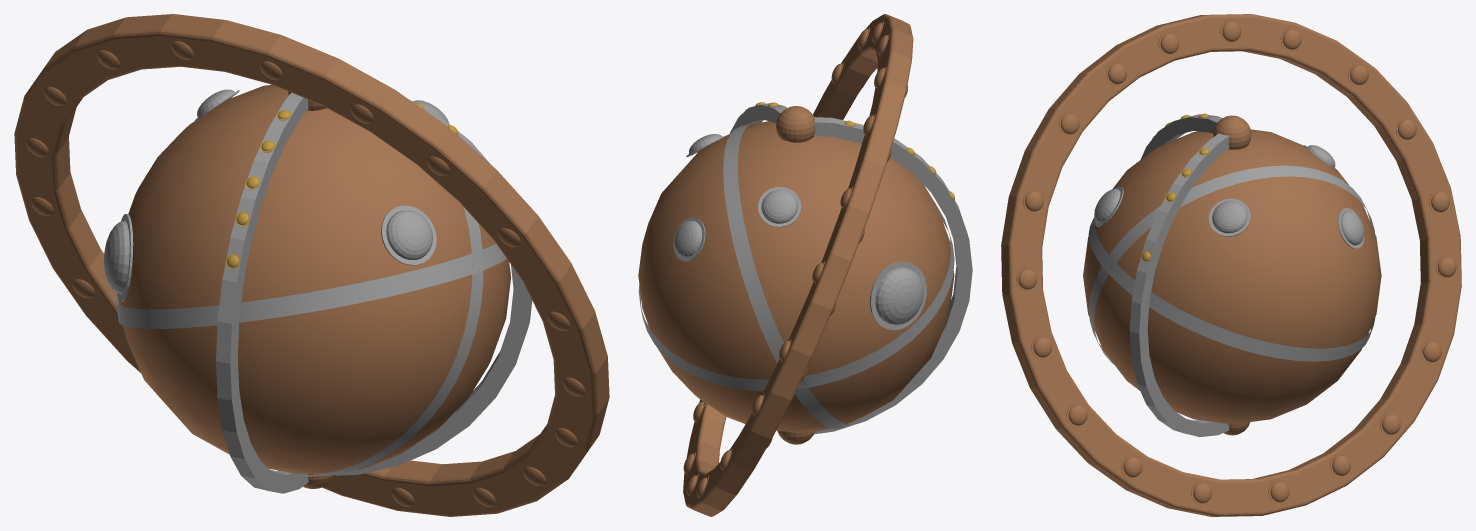
The model's file is steampunkBall.fbx.
The picture shows the model from 3 angles, left to right: view 1: azimuth 30°, elevation 25°; view 2: azimuth 150°, elevation 25°; view 3: azimuth 270°, elevation 25°; orthographic projection. The views are drawn at different scales.
Visible parts, largest first — view 1: Sphere.011, Sphere.025, Circle, BézierCircle; view 2: Sphere.011, Sphere.025, BézierCircle, Circle; view 3: Sphere.011, Sphere.025, Circle, BézierCircle.
Part boxes in pixels (left/top/right/bottom): Sphere.011: left=104, top=84, right=511, bottom=488; Sphere.025: left=14, top=14, right=609, bottom=516; Circle: left=216, top=92, right=532, bottom=493; BézierCircle: left=116, top=84, right=506, bottom=476; Sphere.011: left=638, top=102, right=954, bottom=444; Sphere.025: left=683, top=14, right=913, bottom=516; BézierCircle: left=638, top=122, right=954, bottom=429; Circle: left=730, top=102, right=972, bottom=434; Sphere.011: left=1083, top=113, right=1381, bottom=435; Sphere.025: left=1001, top=14, right=1461, bottom=516; Circle: left=1129, top=114, right=1229, bottom=437; BézierCircle: left=1088, top=165, right=1375, bottom=364.
Size of the model in its own units: 208 by 314 by 309.
